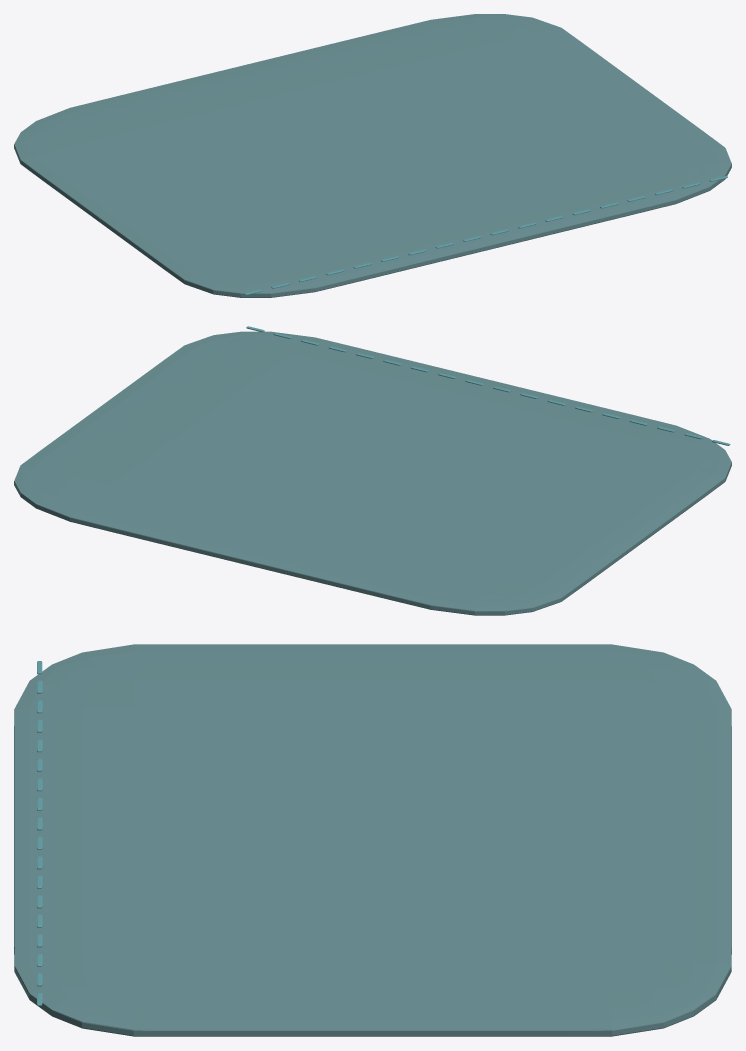
Rendered from rug.glb.
3 renders of one model, top to bottom at view 1: azimuth 30°, elevation 25°; view 2: azimuth 150°, elevation 25°; view 3: azimuth 270°, elevation 25°, orthographic. The views are drawn at different scales.
Parts seen in each view (by area): view 1: rug; view 2: rug; view 3: rug.
Part boxes in pixels (x1=…): rug: x1=14, y1=14, x2=731, y2=297; rug: x1=14, y1=331, x2=731, y2=615; rug: x1=14, y1=644, x2=731, y2=1036.
Bounding box in the file's own units: 2.85 × 0.0415 × 2.24.
